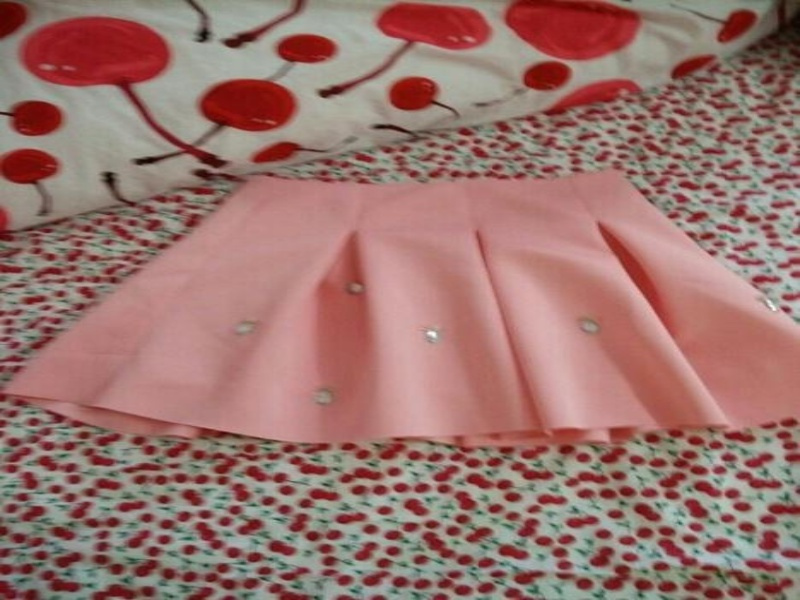skirt: (0, 172, 798, 449)
